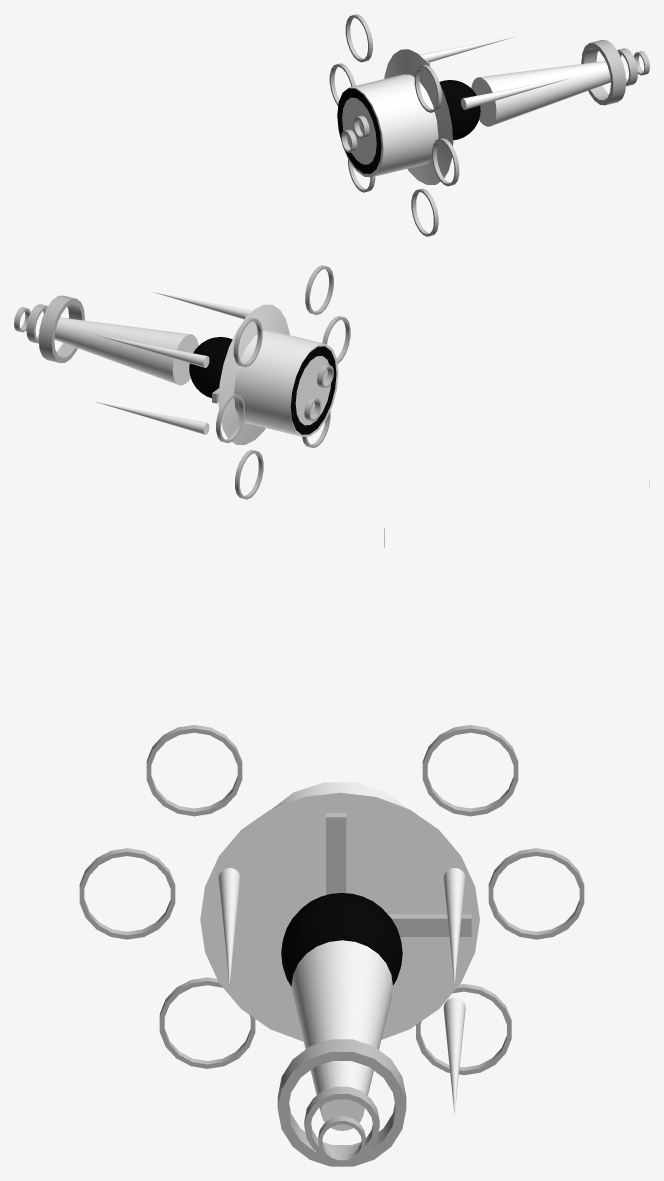
Rendered from myship01.FBX.
3 renders of one model, top to bottom at view 1: azimuth 30°, elevation 25°; view 2: azimuth 150°, elevation 25°; view 3: azimuth 270°, elevation 25°, orthographic. The views are drawn at different scales.
Parts seen in each view (by area): view 1: Cylinder001, Cone002, Cone001, Tube012, Sphere001, Tube011, Cone004, Tube006, Tube004, Tube005, Tube002, Cone003 (+2 smaller); view 2: Cylinder001, Cone002, Cone001, Tube012, Sphere001, Tube011, Cone003, Cone005, Tube004, Tube007, Tube001, Tube005 (+3 smaller); view 3: Cone001, Cone002, Sphere001, Tube012, Tube001, Tube002, Tube004, Tube005, Tube013, Box004, Tube006, Tube007 (+6 smaller).
Part boxes in pixels (x1,y1,x2,y2): Cylinder001: (337, 74, 438, 177); Cone002: (471, 61, 610, 126); Cone001: (384, 49, 453, 184); Tube012: (581, 40, 626, 105); Sphere001: (439, 80, 480, 140); Tube011: (337, 88, 381, 173); Cone004: (461, 77, 571, 109); Tube006: (411, 188, 438, 236); Tube004: (345, 14, 372, 62); Tube005: (414, 64, 441, 112); Tube002: (432, 138, 459, 186); Cone003: (419, 36, 514, 62); Cylinder001: (234, 330, 338, 436); Cone002: (54, 317, 198, 385); Cone001: (218, 304, 289, 444); Tube012: (38, 295, 84, 362); Sphere001: (189, 337, 232, 398); Tube011: (290, 346, 336, 434); Cone003: (95, 334, 209, 367); Cone005: (95, 401, 209, 434); Tube004: (233, 317, 262, 367); Tube007: (235, 450, 263, 499); Tube001: (216, 393, 244, 442); Tube005: (305, 265, 333, 314); Cone001: (200, 792, 479, 1041); Cone002: (291, 940, 392, 1130); Sphere001: (281, 893, 402, 986); Tube012: (277, 1039, 406, 1166); Tube001: (488, 848, 584, 939); Tube002: (79, 848, 175, 939); Tube004: (422, 725, 518, 816); Tube005: (146, 725, 242, 816); Tube013: (304, 1086, 379, 1157); Box004: (326, 813, 346, 894); Tube006: (159, 977, 255, 1068); Tube007: (416, 984, 511, 1075).
Bounding box in the file's own units: 250 × 66.72 × 88.12.
